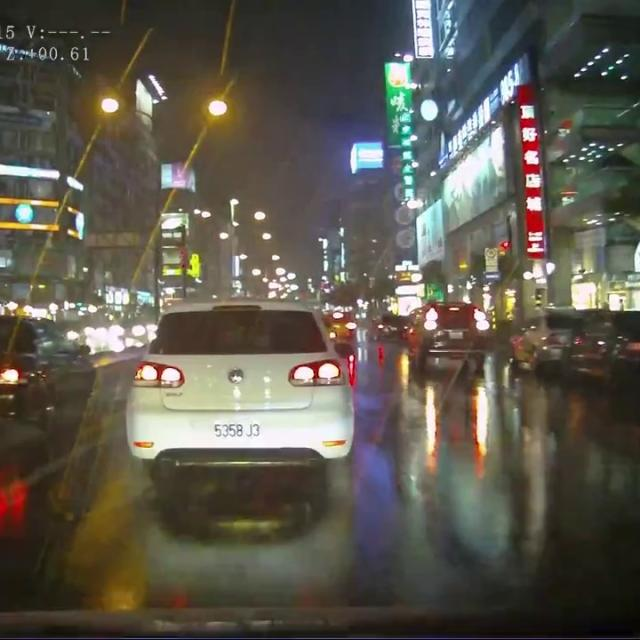Car: (125, 297, 358, 483), (0, 306, 95, 419), (553, 309, 639, 385), (403, 298, 492, 369), (506, 312, 583, 370), (369, 313, 411, 343), (320, 307, 356, 340)
